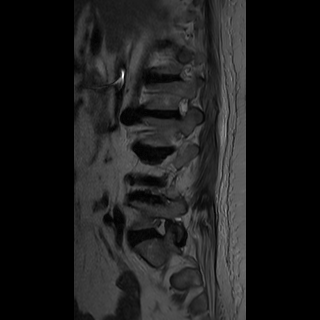RFS0: (167, 92, 195, 123), (147, 211, 171, 245)
